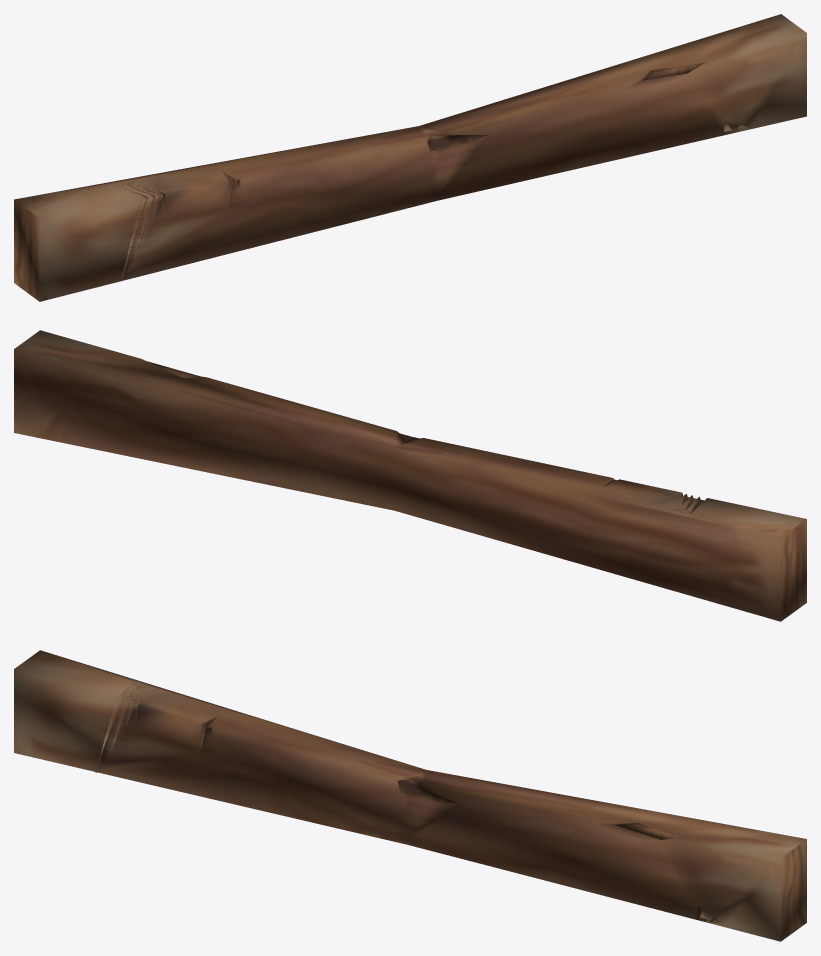
File: SM_Fence_Piket_01.fbx
3 renders of one model, top to bottom at view 1: azimuth 30°, elevation 25°; view 2: azimuth 150°, elevation 25°; view 3: azimuth 330°, elevation 25°, orthographic.
Parts seen in each view (by area): view 1: picket 1; view 2: picket 1; view 3: picket 1.
Boxes of the visible parts, left/top/right/bottom form: picket 1: left=14, top=14, right=806, bottom=301; picket 1: left=14, top=330, right=806, bottom=621; picket 1: left=14, top=650, right=806, bottom=941.
Bounding box in the file's own units: 199 × 20.92 × 13.02.
1 material, 1 textured.
